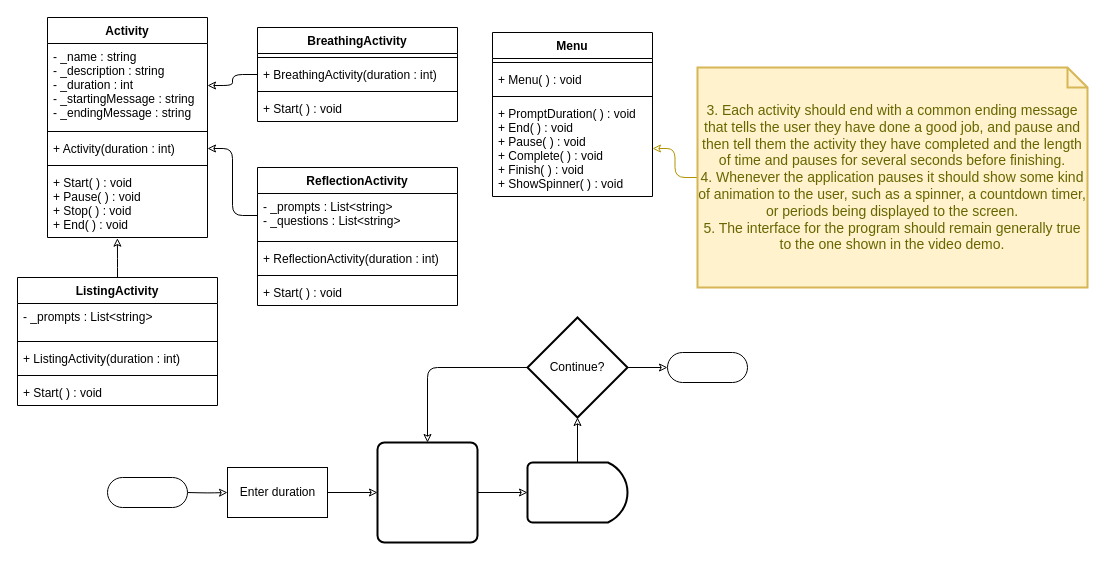
Image size: 1106x561. Some labels were removed from this diagram. Each missing label, with the centre of its shape:
"Pause" belongs at [577,492].
"Start" belongs at [147,492].
"Start/restart activity" belongs at [427,492].
"Stop" belongs at [707,367].
